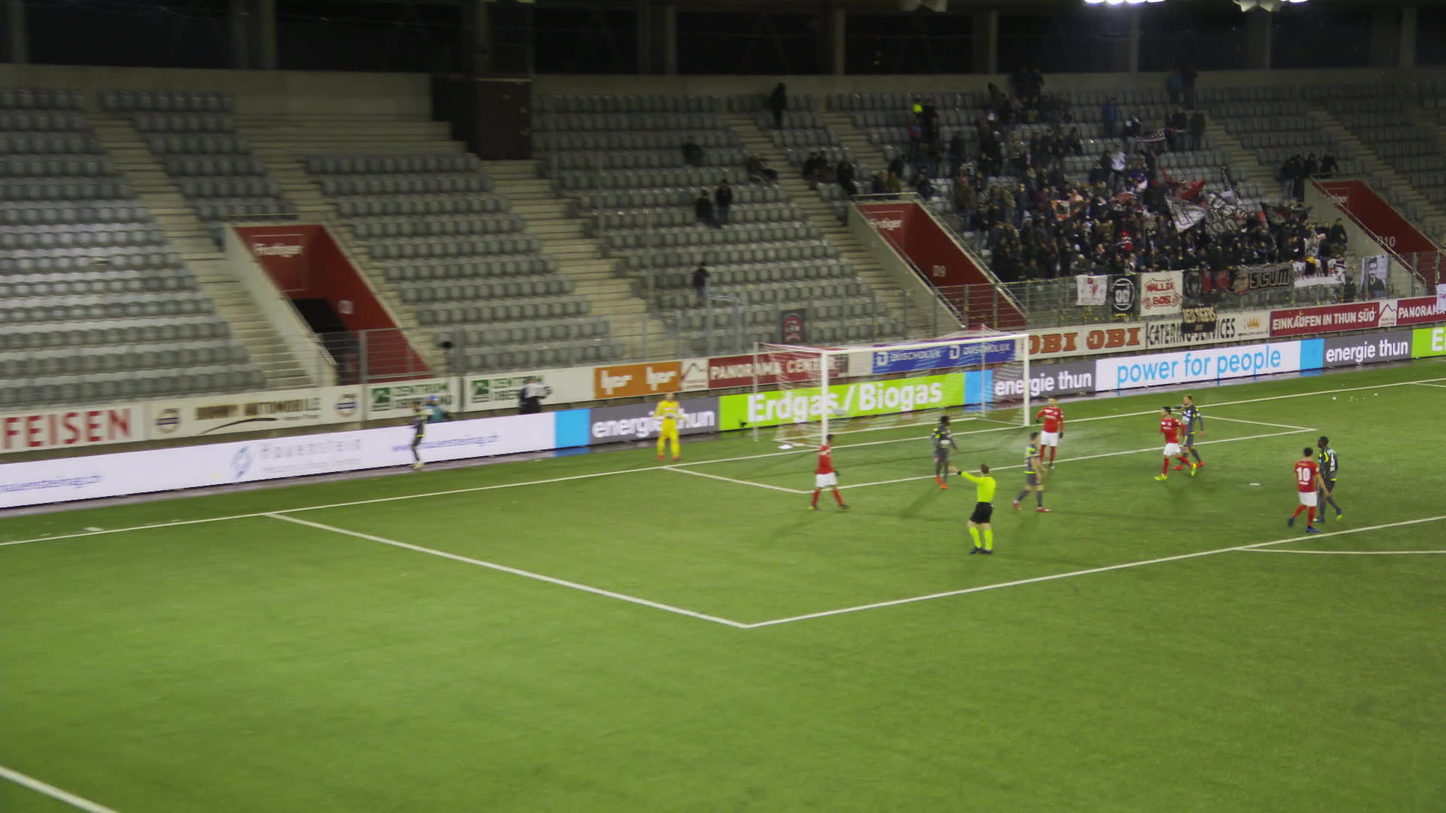player: (1280, 446, 1325, 537), (795, 431, 839, 517), (1004, 430, 1047, 517), (1308, 434, 1347, 527), (1155, 406, 1199, 484), (638, 387, 679, 464), (1168, 392, 1206, 473), (918, 412, 954, 492), (1026, 395, 1061, 472), (387, 395, 420, 474)
referee: (941, 463, 997, 560)
